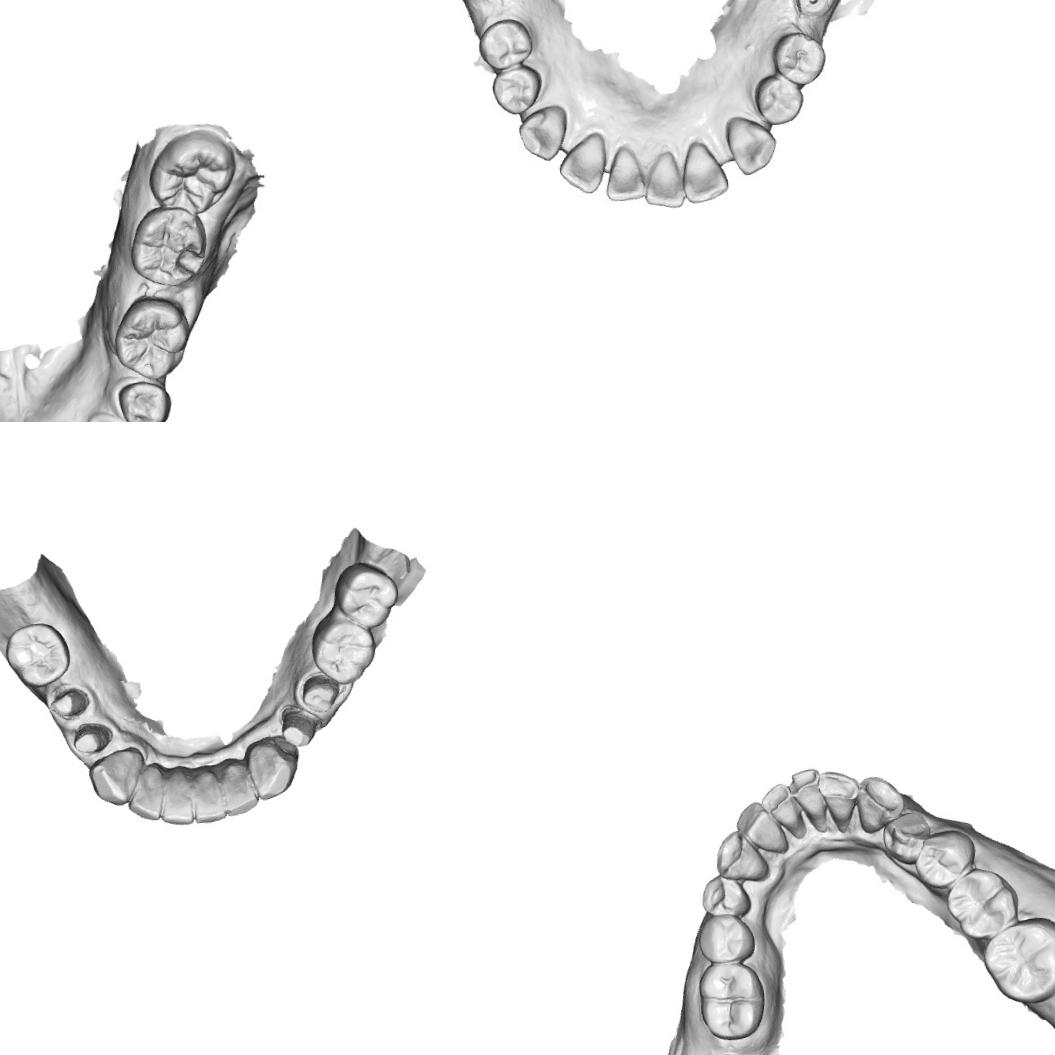canine: (86, 744, 148, 809), (243, 735, 301, 802), (722, 112, 778, 177), (710, 827, 770, 884), (514, 104, 571, 162), (852, 774, 905, 834)
crown: (296, 670, 343, 717), (278, 706, 319, 750), (68, 718, 114, 756), (44, 686, 92, 720)
implant: (790, 0, 832, 17)
incisor: (732, 797, 791, 858), (555, 133, 611, 197), (784, 766, 827, 844), (680, 139, 730, 204), (756, 780, 805, 842), (640, 144, 685, 210), (123, 761, 170, 823), (818, 767, 861, 832), (600, 144, 648, 202), (218, 757, 260, 818), (156, 766, 198, 826), (190, 765, 227, 825)
molar: (142, 126, 241, 218), (124, 202, 210, 291), (978, 913, 1055, 1004), (943, 864, 1020, 944), (695, 959, 767, 1043), (331, 558, 404, 632), (1, 619, 73, 690), (308, 616, 378, 688)
premolar: (108, 291, 194, 384), (910, 828, 978, 890), (768, 26, 830, 88), (475, 15, 536, 72), (696, 910, 753, 965), (878, 808, 932, 865), (752, 72, 808, 126), (488, 63, 542, 118), (115, 377, 173, 422), (700, 874, 753, 920)
